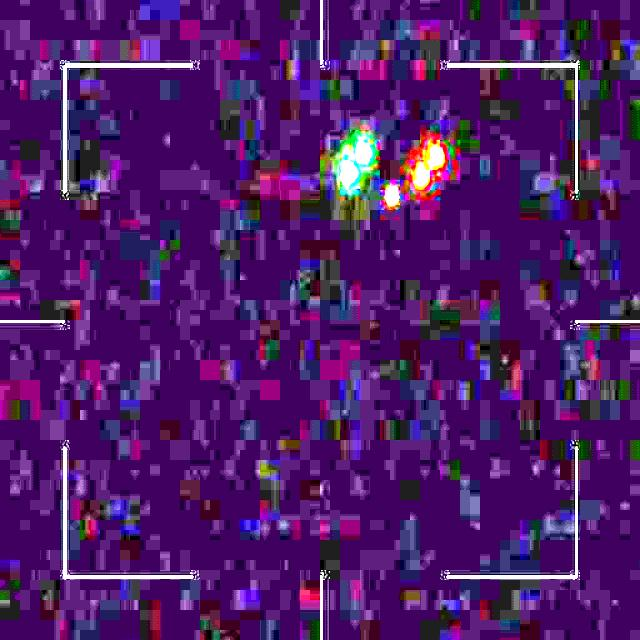bird: (340, 132, 444, 209)
